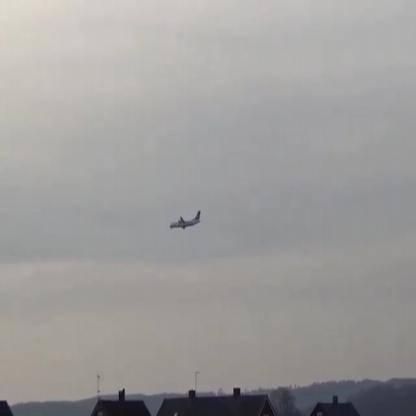aircraft: (169, 210, 201, 229)
